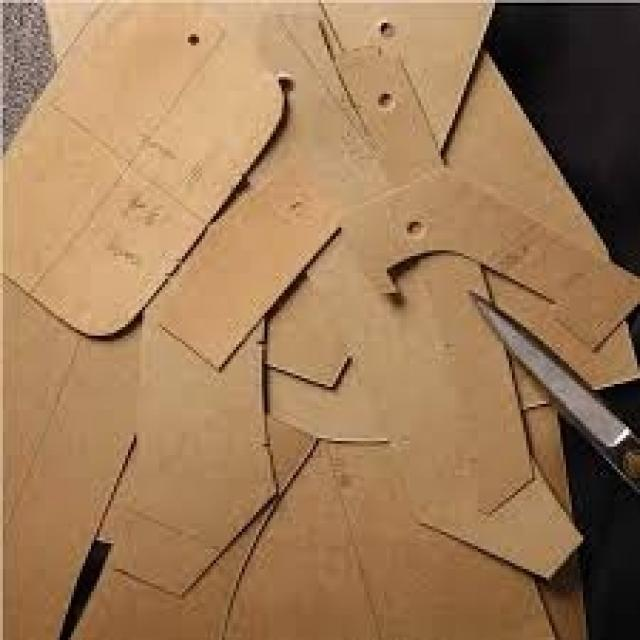cardboard paper: (3, 5, 639, 639)
